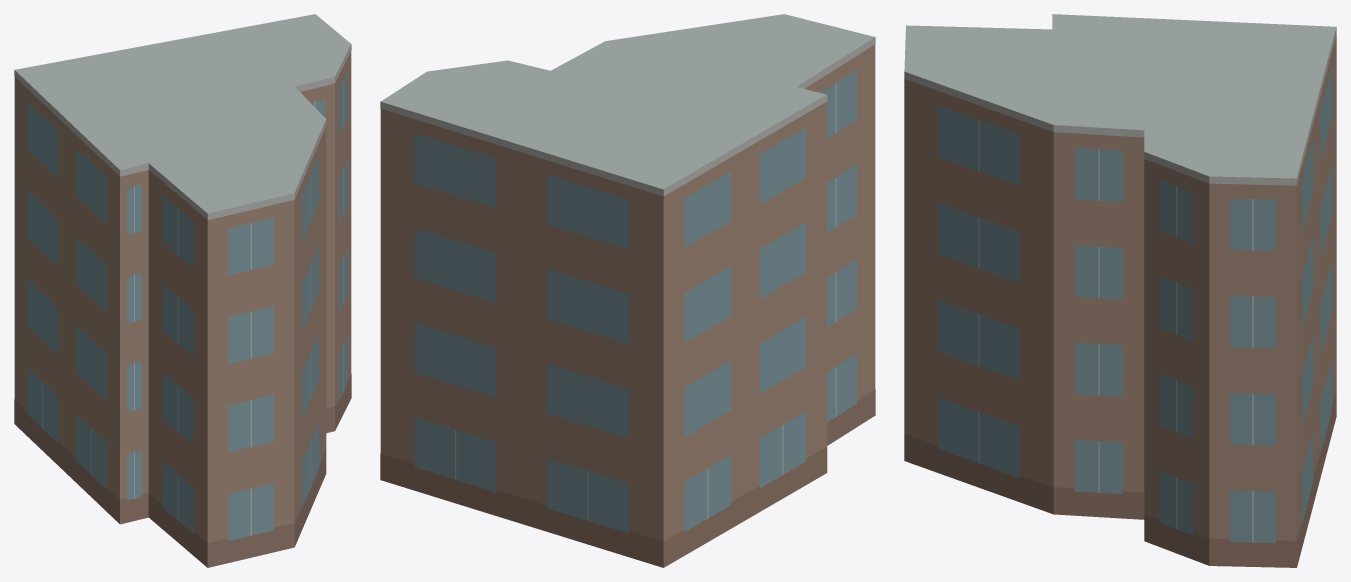
Rendered from survey-upis-32479791.glb.
The picture shows the model from 3 angles, left to right: view 1: azimuth 30°, elevation 25°; view 2: azimuth 150°, elevation 25°; view 3: azimuth 270°, elevation 25°; orthographic projection. The views are drawn at different scales.
Parts seen in each view (by area): view 1: survey-upis-32479791.tmp; view 2: survey-upis-32479791.tmp; view 3: survey-upis-32479791.tmp.
Boxes of the visible parts, x1,y1,x2,y2 form: survey-upis-32479791.tmp: (14, 14, 351, 567); survey-upis-32479791.tmp: (380, 14, 875, 567); survey-upis-32479791.tmp: (904, 14, 1336, 567).
Size of the model in its own units: 12.01 by 13.24 by 13.33.
